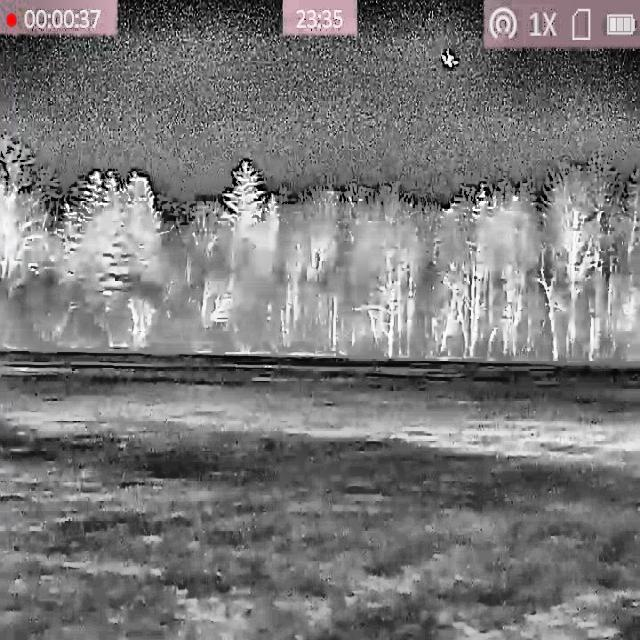drone: (441, 48, 458, 68)
